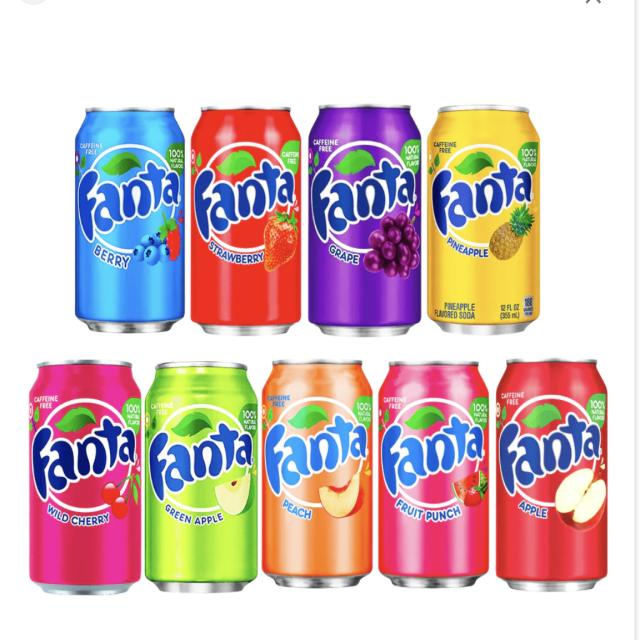recyclable: (426, 79, 561, 343), (492, 350, 632, 597), (295, 82, 429, 340), (61, 82, 190, 344), (17, 345, 143, 597), (369, 350, 497, 597), (183, 84, 307, 338), (140, 348, 261, 602), (256, 348, 376, 596)
